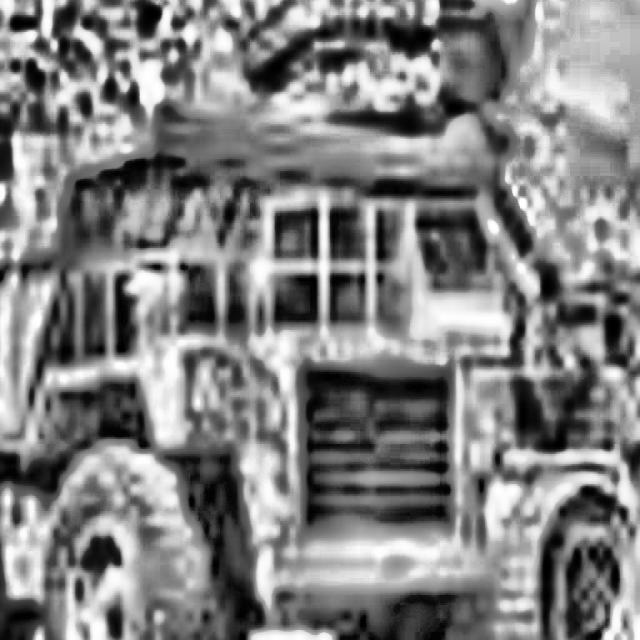dump_truck: (0, 92, 510, 640)
